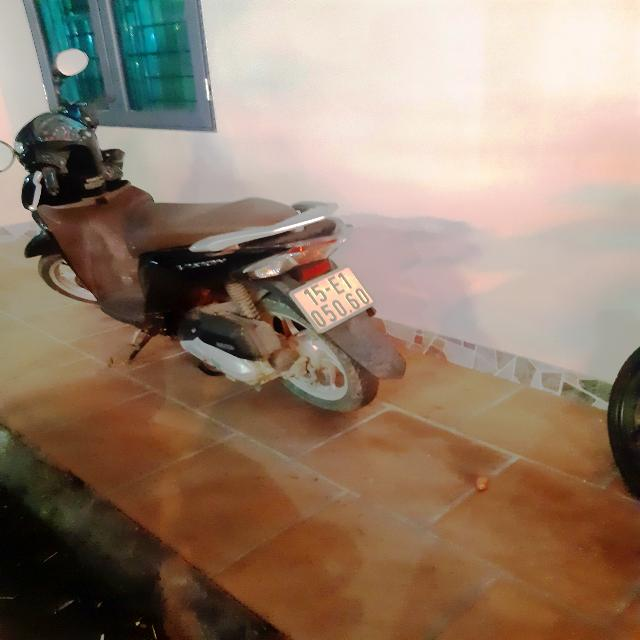license_plate: (279, 260, 387, 343)
